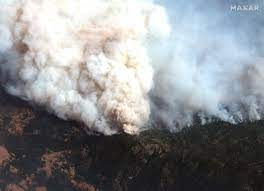smoke: (1, 1, 263, 119)
